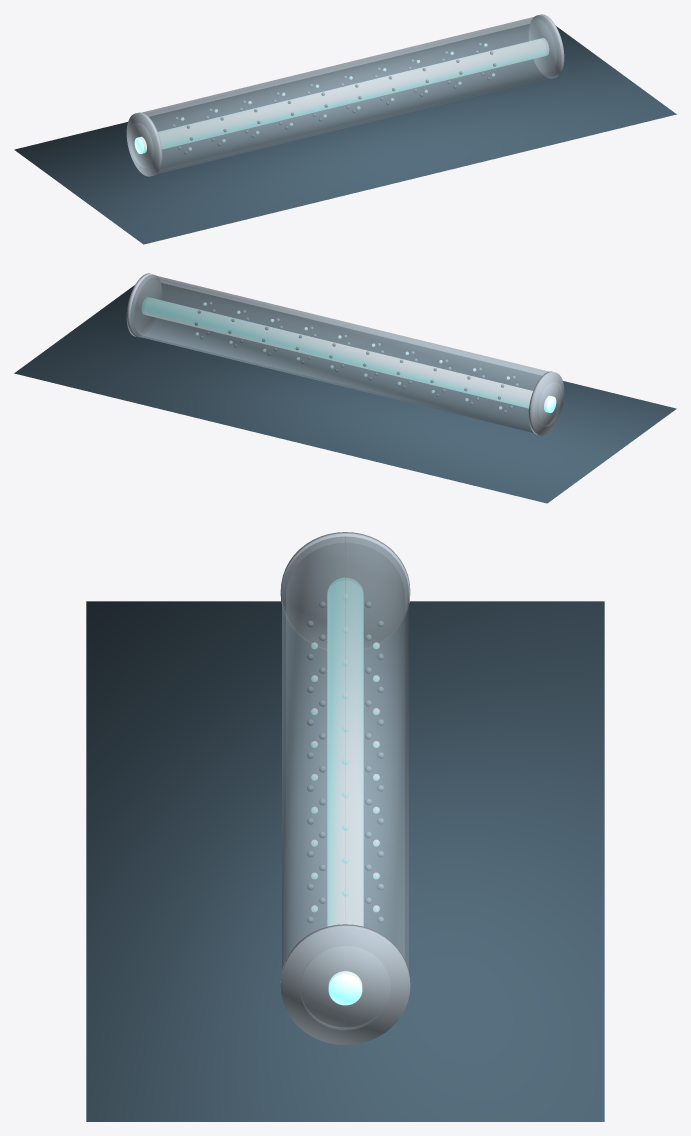
Rendered from fiber.glb.
The picture shows the model from 3 angles, top to bottom: view 1: azimuth 30°, elevation 25°; view 2: azimuth 150°, elevation 25°; view 3: azimuth 270°, elevation 25°; orthographic projection. The views are drawn at different scales.
Visible parts, largest first — view 1: fiber_node_0002, fiber_node_0003, fiber_node_0004, fiber_node_0005, fiber_node_0006, fiber_node_0009, fiber_node_0007; view 2: fiber_node_0002, fiber_node_0003, fiber_node_0004, fiber_node_0005, fiber_node_0006, fiber_node_0009, fiber_node_0007; view 3: fiber_node_0002, fiber_node_0003, fiber_node_0004, fiber_node_0005, fiber_node_0009, fiber_node_0006, fiber_node_0010, fiber_node_0011.
Boxes of the visible parts, x1=… form: fiber_node_0002: x1=14, y1=24, x2=676, y2=244; fiber_node_0003: x1=142, y1=16, x2=560, y2=173; fiber_node_0004: x1=146, y1=19, x2=556, y2=170; fiber_node_0005: x1=158, y1=38, x2=548, y2=149; fiber_node_0006: x1=126, y1=112, x2=162, y2=176; fiber_node_0009: x1=529, y1=14, x2=564, y2=78; fiber_node_0007: x1=128, y1=123, x2=153, y2=167; fiber_node_0002: x1=14, y1=283, x2=676, y2=503; fiber_node_0003: x1=130, y1=275, x2=548, y2=432; fiber_node_0004: x1=134, y1=278, x2=544, y2=429; fiber_node_0005: x1=142, y1=297, x2=532, y2=408; fiber_node_0006: x1=528, y1=371, x2=564, y2=435; fiber_node_0009: x1=126, y1=273, x2=161, y2=337; fiber_node_0007: x1=537, y1=382, x2=562, y2=426; fiber_node_0002: x1=86, y1=601, x2=604, y2=1121; fiber_node_0003: x1=282, y1=536, x2=408, y2=970; fiber_node_0004: x1=286, y1=543, x2=404, y2=958; fiber_node_0005: x1=327, y1=578, x2=363, y2=926; fiber_node_0009: x1=280, y1=924, x2=410, y2=1044; fiber_node_0006: x1=280, y1=532, x2=410, y2=649; fiber_node_0010: x1=300, y1=945, x2=390, y2=1030; fiber_node_0011: x1=328, y1=971, x2=362, y2=1005.
Size of the model in its own units: 95 by 11.22 by 40.
